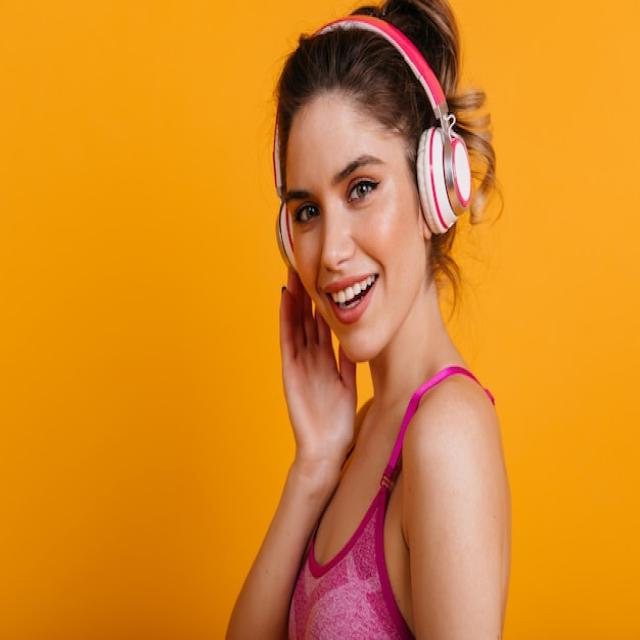Headphone: (271, 13, 473, 276)
